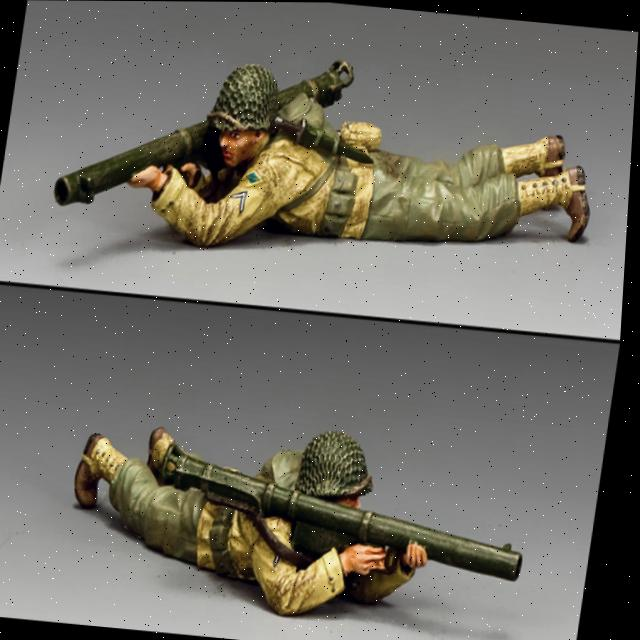rocket: (53, 33, 356, 235), (154, 441, 542, 581)
